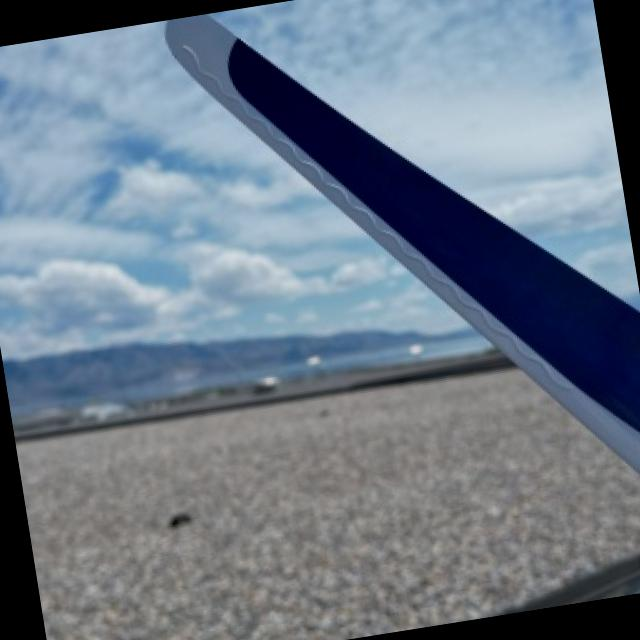healthy: (169, 17, 640, 469)
